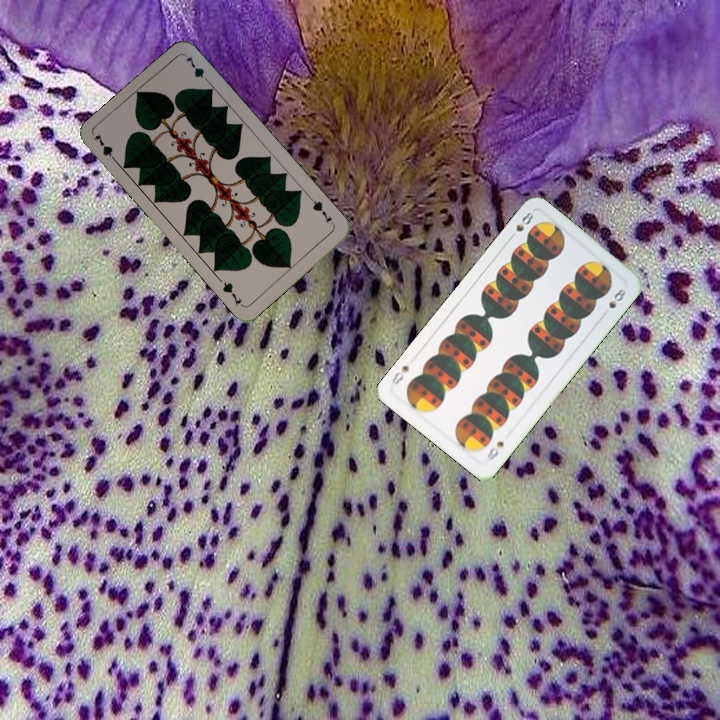G7: (90, 130, 121, 167), (307, 194, 337, 228)
S8: (505, 208, 536, 242), (483, 437, 507, 465)
